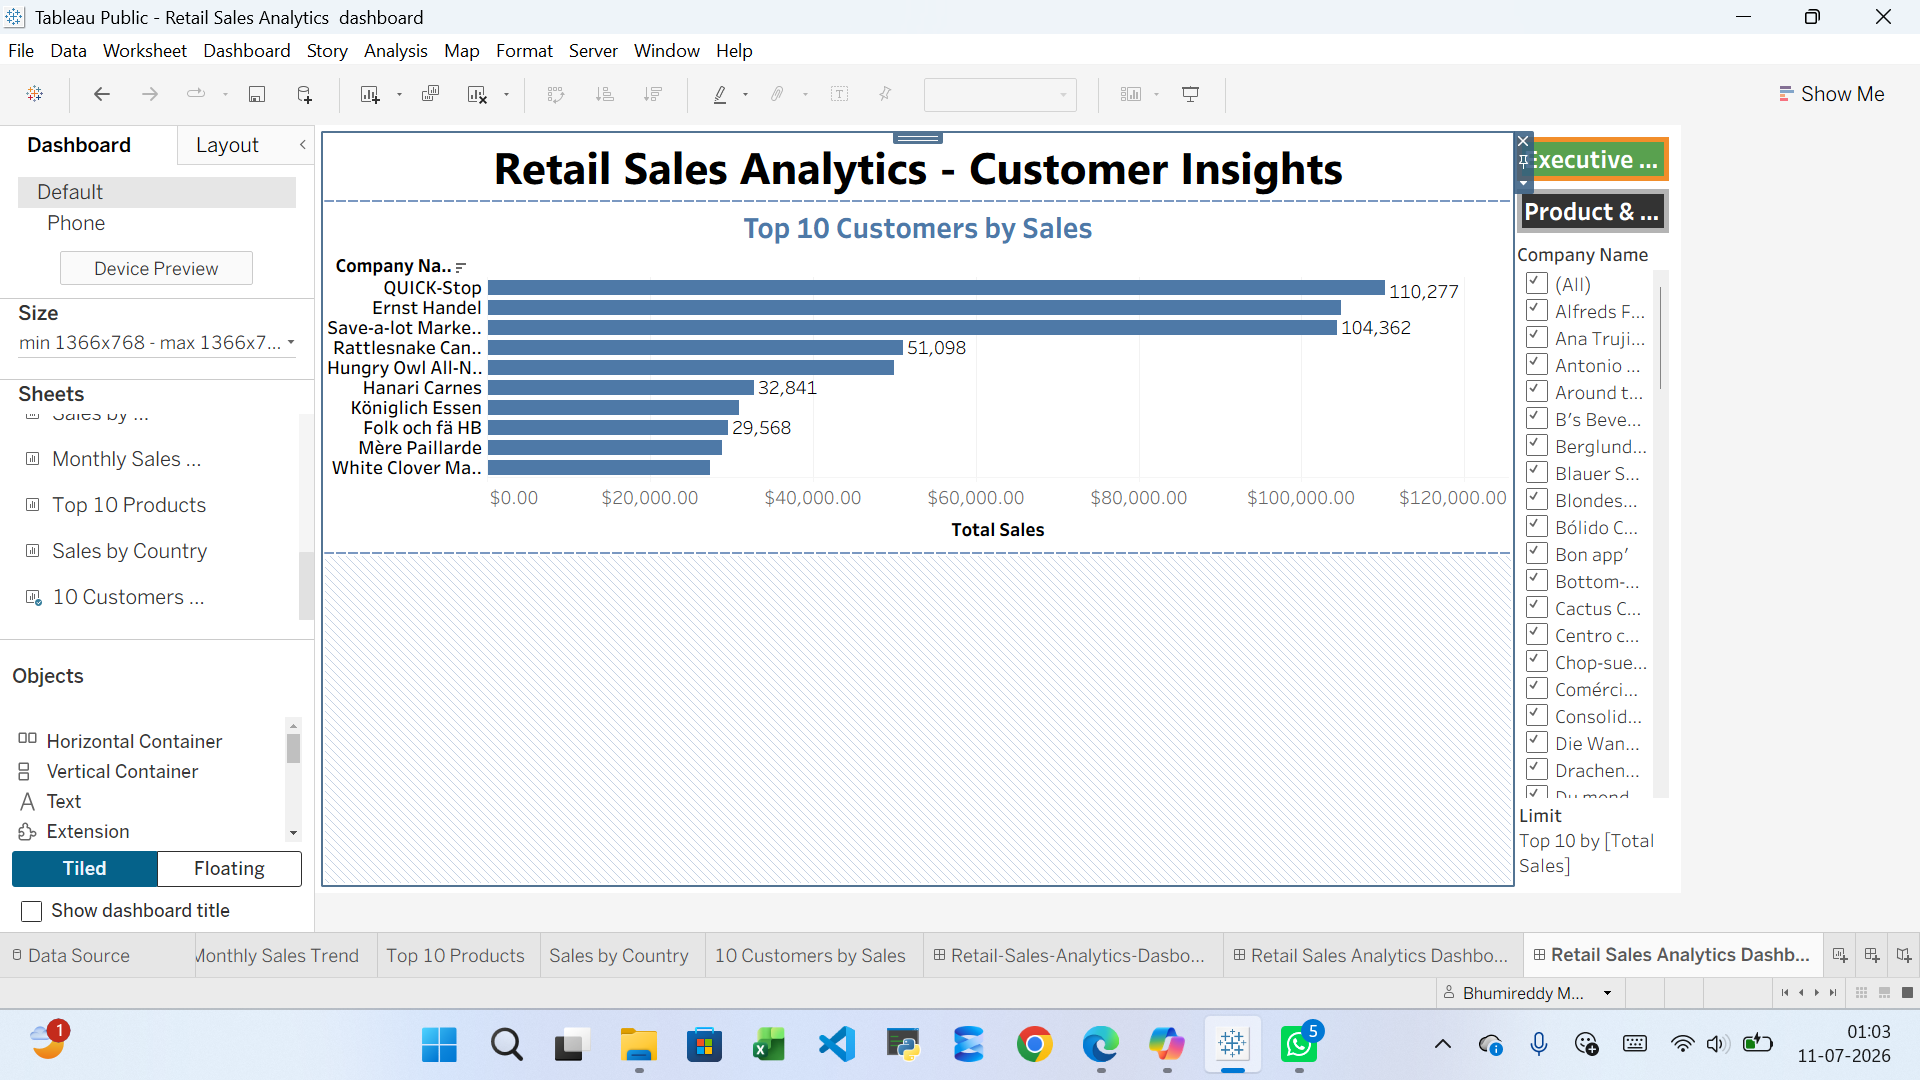

This screenshot's page, from the dashboard's own definition file:
{"tool":"tableau","page":{"name":"Retail Sales Analytics Dashboard-Customer Insights Cluster-2","canvas":[1366,768],"ordinal":1},"visuals":[{"type":"text","box":[8,8,1190,67]},{"type":"dashboard-object","box":[1198,8,160,52]},{"type":"dashboard-object","box":[1198,60,160,52]},{"type":"worksheet","title":"10 Customers by Sales","mark":"Automatic","rows":["CompanyName"],"cols":["Calculation_2653142644731904"],"box":[8,75,1190,352]},{"type":"filter","title":"10 Customers by Sales","param":"[odata.06dvpco1srk3af146tckr10jipwa].[none:CompanyName:nk]","box":[1198,112,160,648]}]}

Visuals, with their boxes on the page's 1366x768 design canvas (x1, y1, x2, y2). These are canvas units, not pixel positions in the 1920x1080 screenshot, which may show the page scaled, cropped or inside an application window:
text: {"left": 8, "top": 8, "right": 1198, "bottom": 75}
dashboard-object: {"left": 1198, "top": 8, "right": 1358, "bottom": 60}
dashboard-object: {"left": 1198, "top": 60, "right": 1358, "bottom": 112}
"10 Customers by Sales" worksheet: {"left": 8, "top": 75, "right": 1198, "bottom": 427}
"10 Customers by Sales" filter: {"left": 1198, "top": 112, "right": 1358, "bottom": 760}
